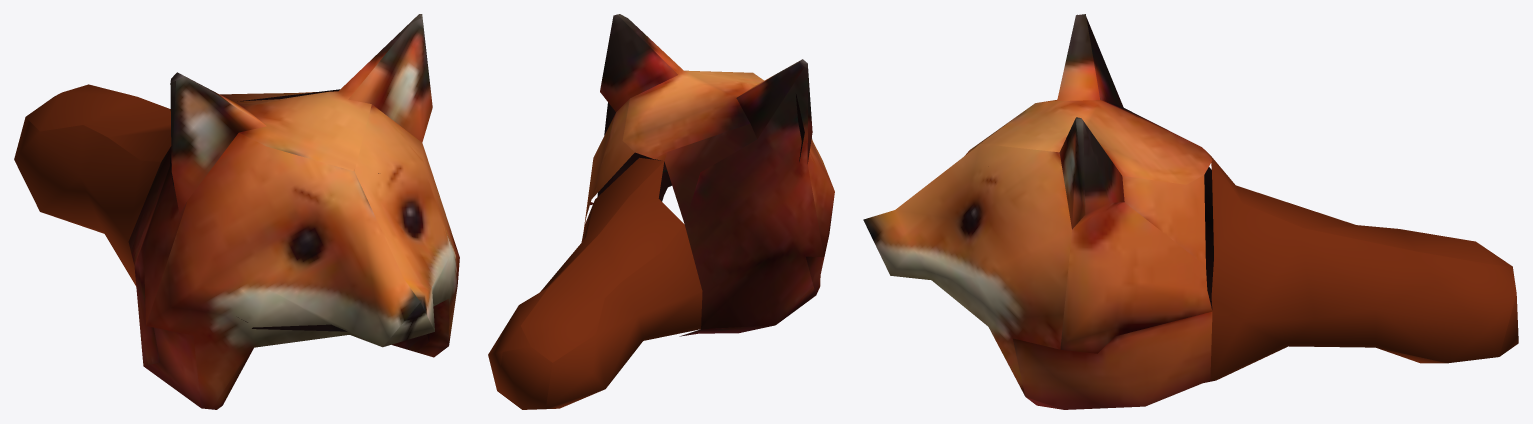
The model's file is red-fox.glb.
The picture shows the model from 3 angles, left to right: view 1: azimuth 30°, elevation 25°; view 2: azimuth 150°, elevation 25°; view 3: azimuth 270°, elevation 25°; orthographic projection. The views are drawn at different scales.
Parts seen in each view (by area): view 1: geometry_0; view 2: geometry_0; view 3: geometry_0.
Boxes of the visible parts, x1,y1,x2,y2 form: geometry_0: [14, 14, 459, 409]; geometry_0: [488, 14, 834, 409]; geometry_0: [863, 14, 1518, 409].
Bounding box in the file's own units: 0.4294 × 0.456 × 0.8995.
2 materials, 1 textured.
